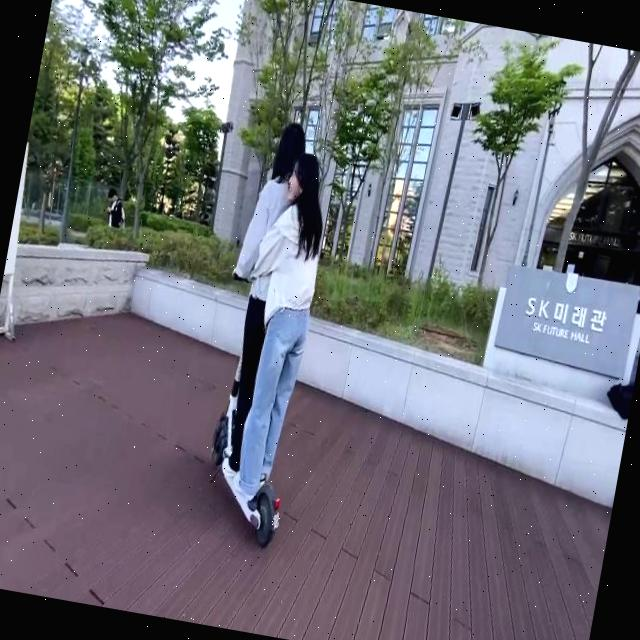bare_head: (291, 147, 332, 213), (269, 109, 302, 188)
human: (213, 113, 306, 463), (231, 160, 324, 483)
kickboard: (197, 415, 289, 546)
